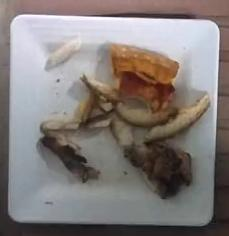bread_crust: (41, 75, 210, 149)
pizza_crust: (110, 43, 179, 112)
